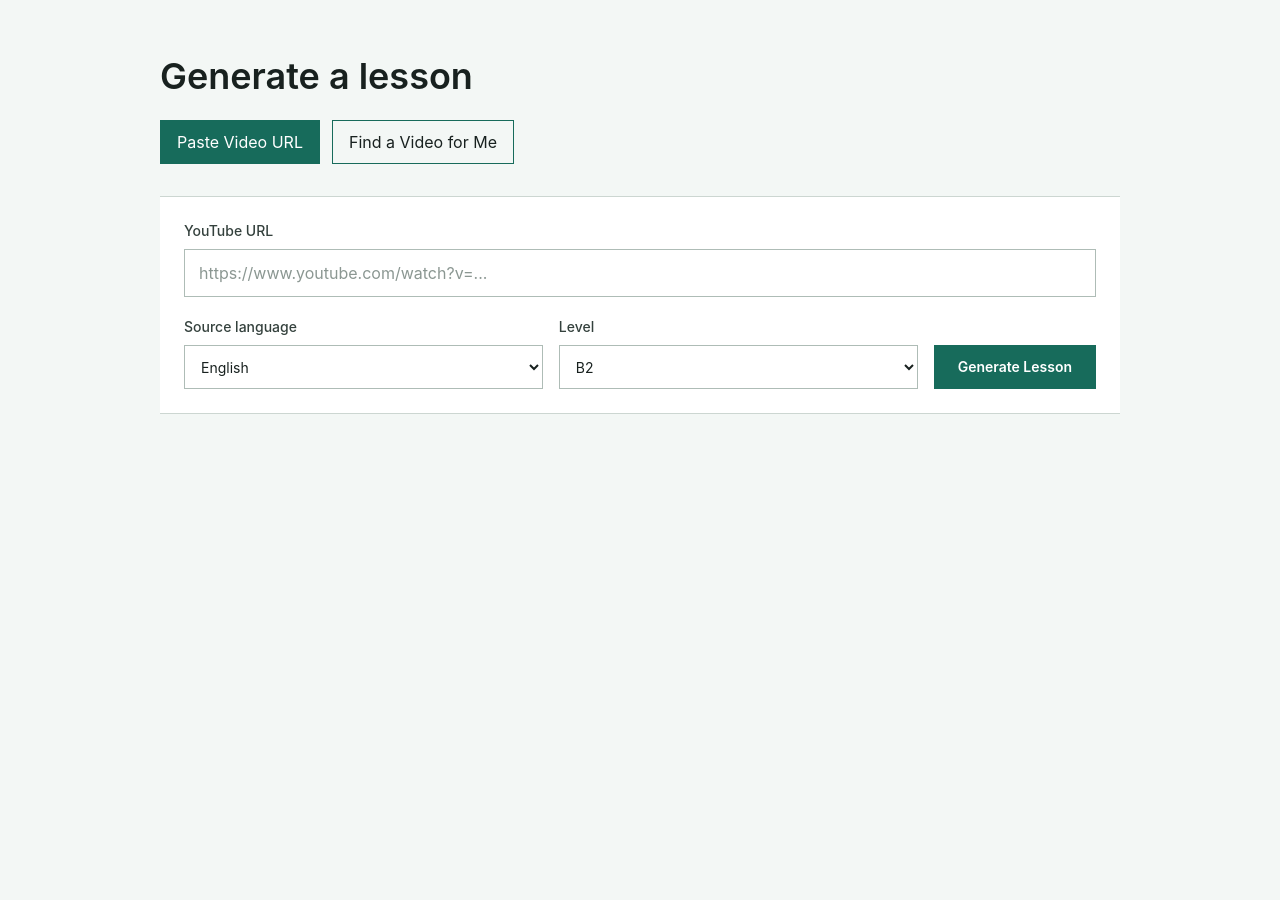
Scenario: LessonGenerator Library integration › keeps the Lesson usable and shows a warning when Library save fails
Type "https://www.youtube.com/watch?v=personal" into the field labelled "YouTube URL" at point(640, 273), box [184,249,1096,297]
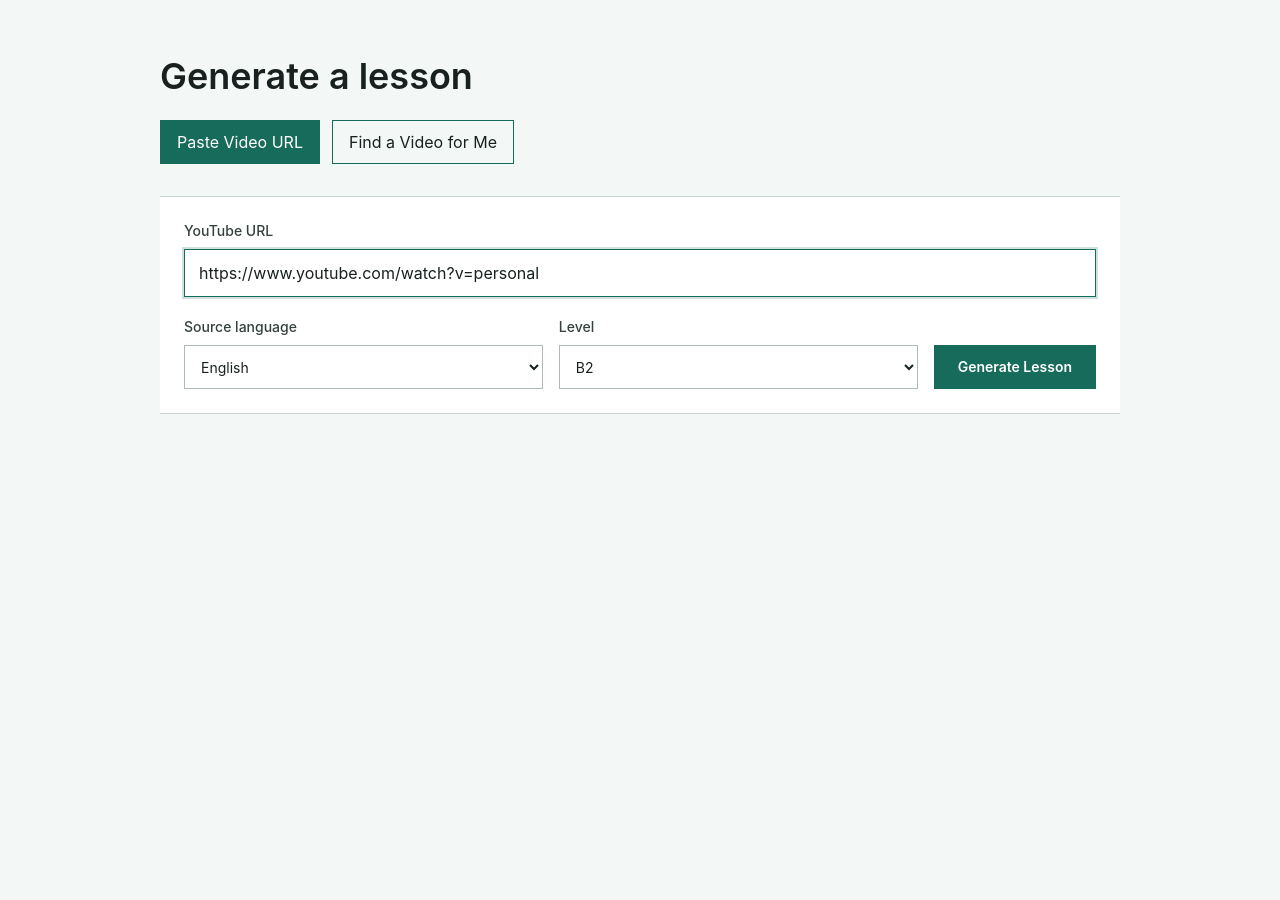
Click the button "Generate Lesson" at point(1015, 367), box [934,345,1096,389]
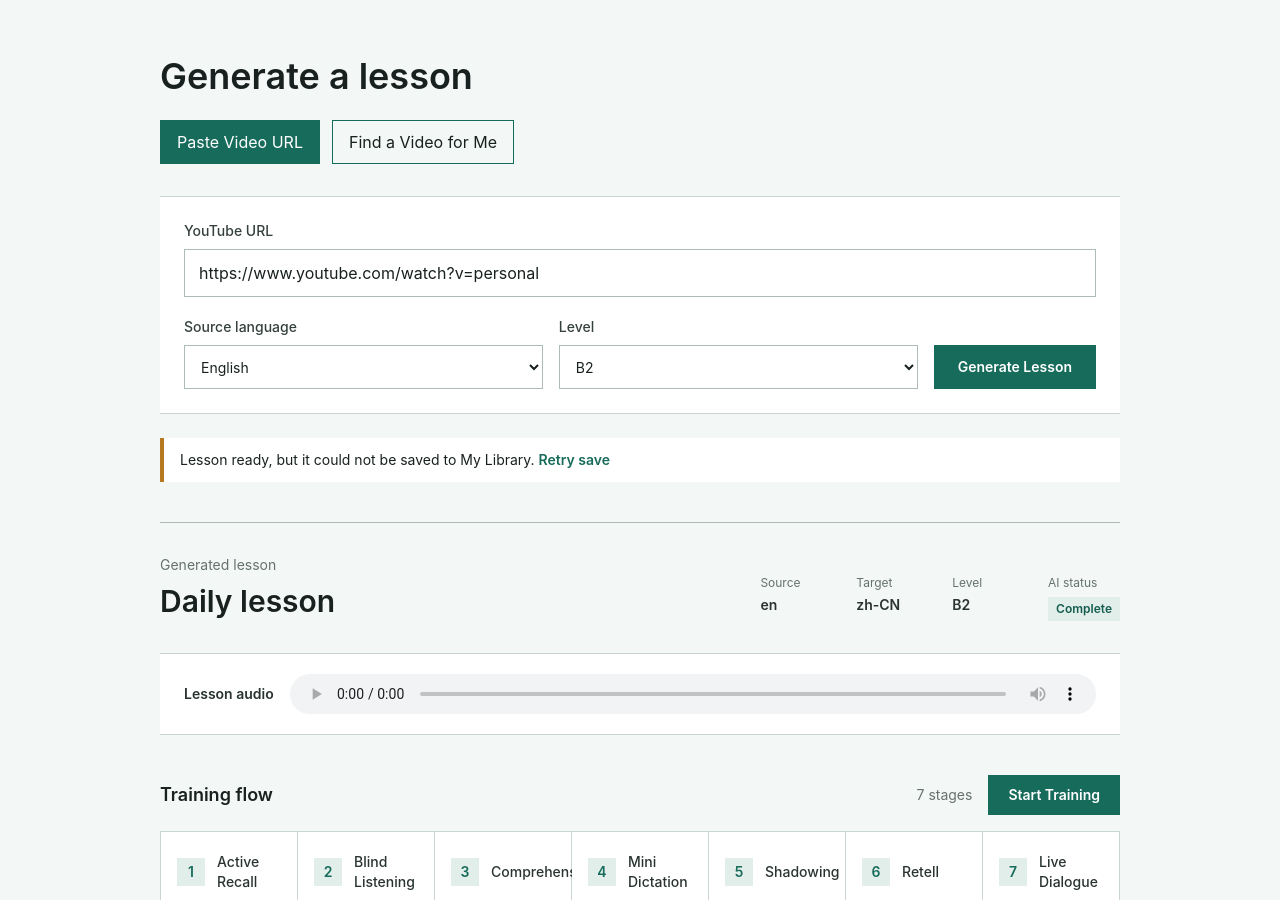
expect the heading "Daily lesson" is shown: met, box [160,583,335,620]
expect the text "Lesson ready, but it could not be saved to My Library." is shown: met, box [180,451,535,468]
expect the button "Start Training" is enabled: met, box [988,774,1120,814]
